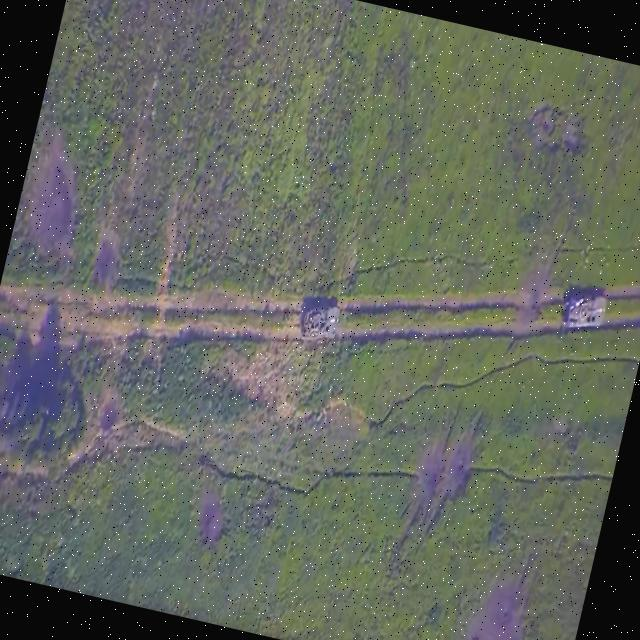AIFV: (558, 285, 616, 342), (296, 295, 347, 351)
